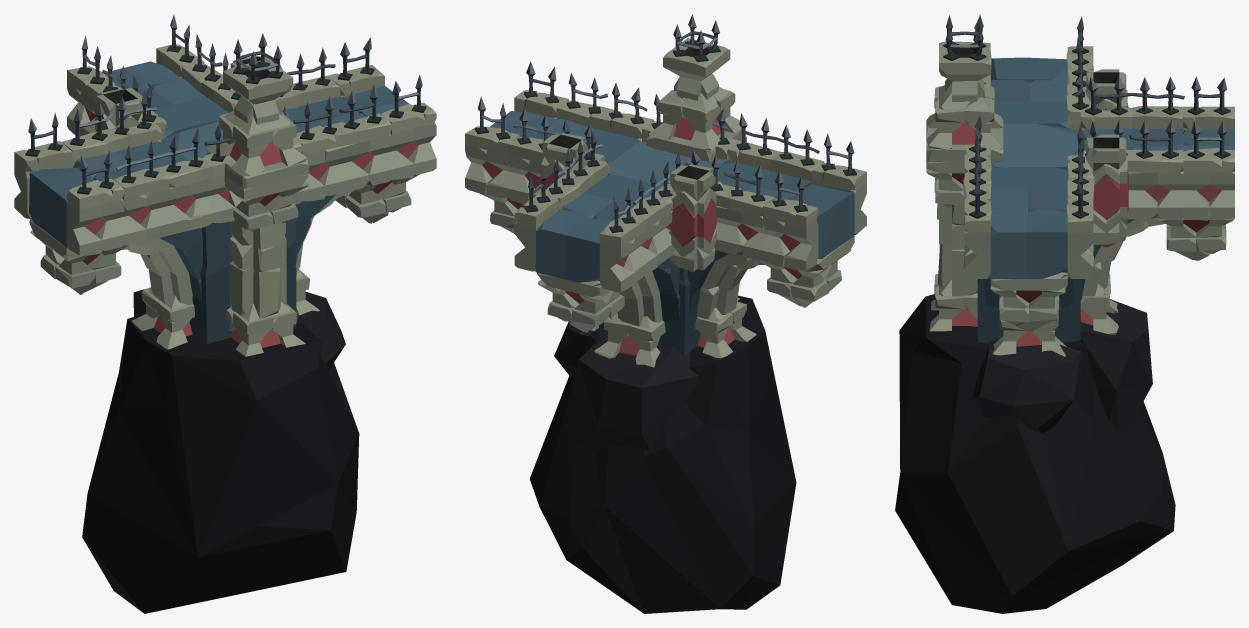
File: bridge_T_01.fbx
3 renders of one model, left to right at view 1: azimuth 30°, elevation 25°; view 2: azimuth 150°, elevation 25°; view 3: azimuth 270°, elevation 25°, orthographic. The views are drawn at different scales.
Visible parts, largest first — view 1: bridge_T_01; view 2: bridge_T_01; view 3: bridge_T_01.
Part boxes in pixels (x1,y1,x2,y2): bridge_T_01: (14,15,436,613); bridge_T_01: (465,14,866,613); bridge_T_01: (895,14,1234,613).
Bounding box in the file's own units: 802 × 1202 × 661.
